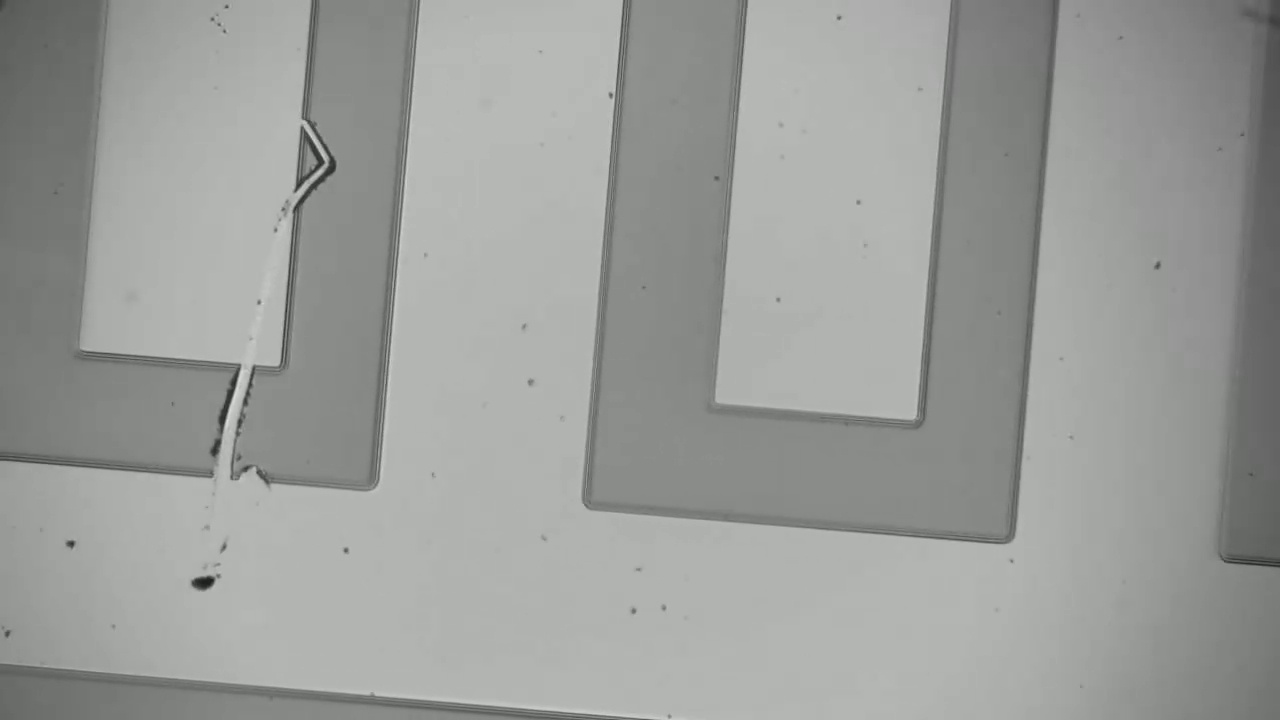Short_circuit: (194, 330, 277, 508)
